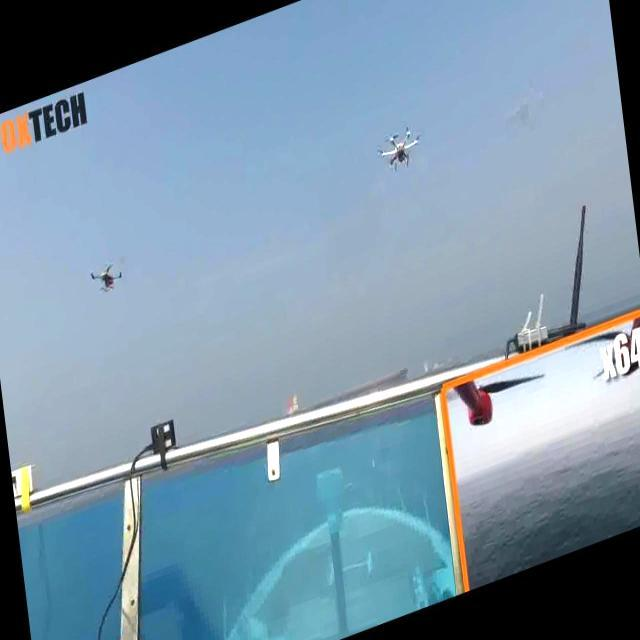drone: (370, 120, 426, 180), (87, 254, 125, 302)
